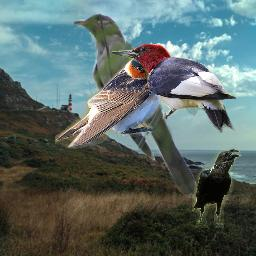Crow: (192, 147, 242, 228)
Cuckoo: (74, 13, 205, 199)
Swallow: (55, 55, 163, 151)
Woodpecker: (112, 44, 237, 133)
